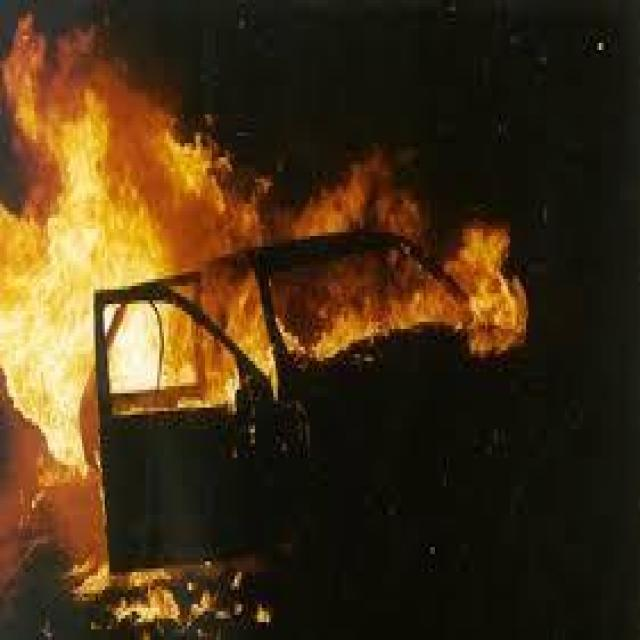fire: (0, 0, 522, 619)
